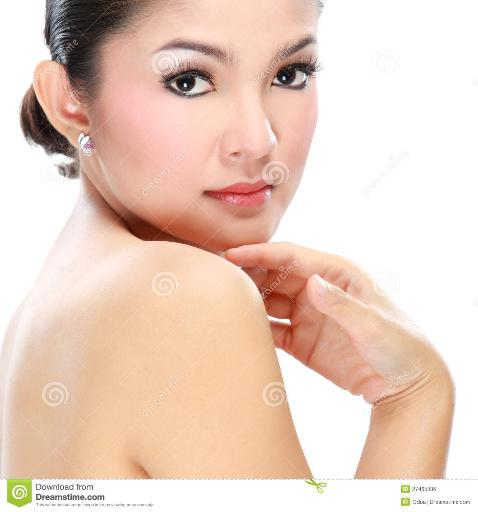left_eye: (271, 64, 314, 93)
left_lip_corner: (266, 181, 281, 192)
right_eye: (162, 69, 218, 102)
right_lip_corner: (200, 185, 218, 201)
